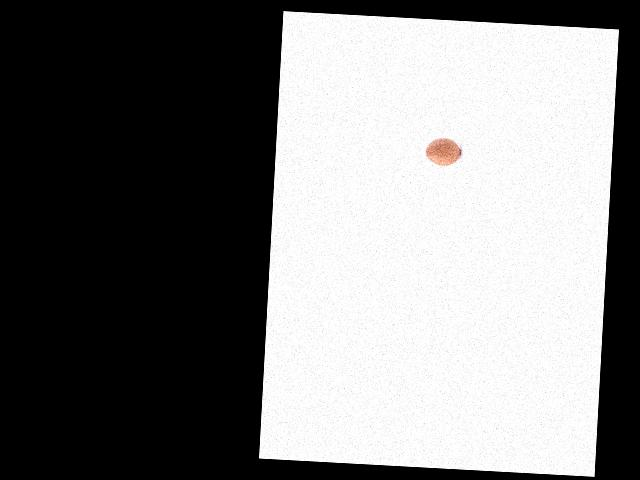egg: (425, 136, 461, 166)
